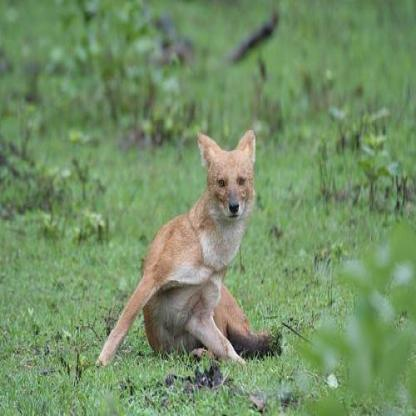dhole: (92, 126, 280, 371)
